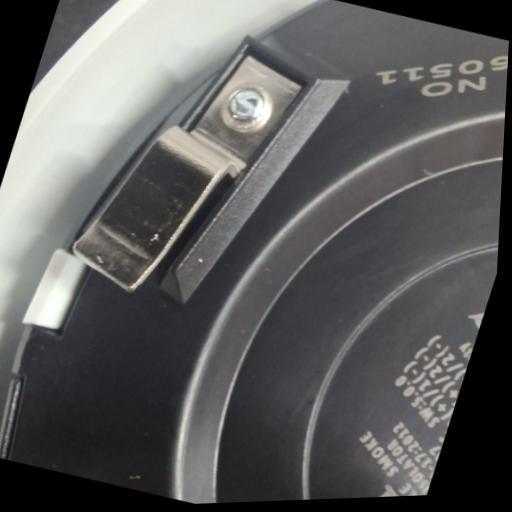yaysiz: (56, 10, 319, 327)
